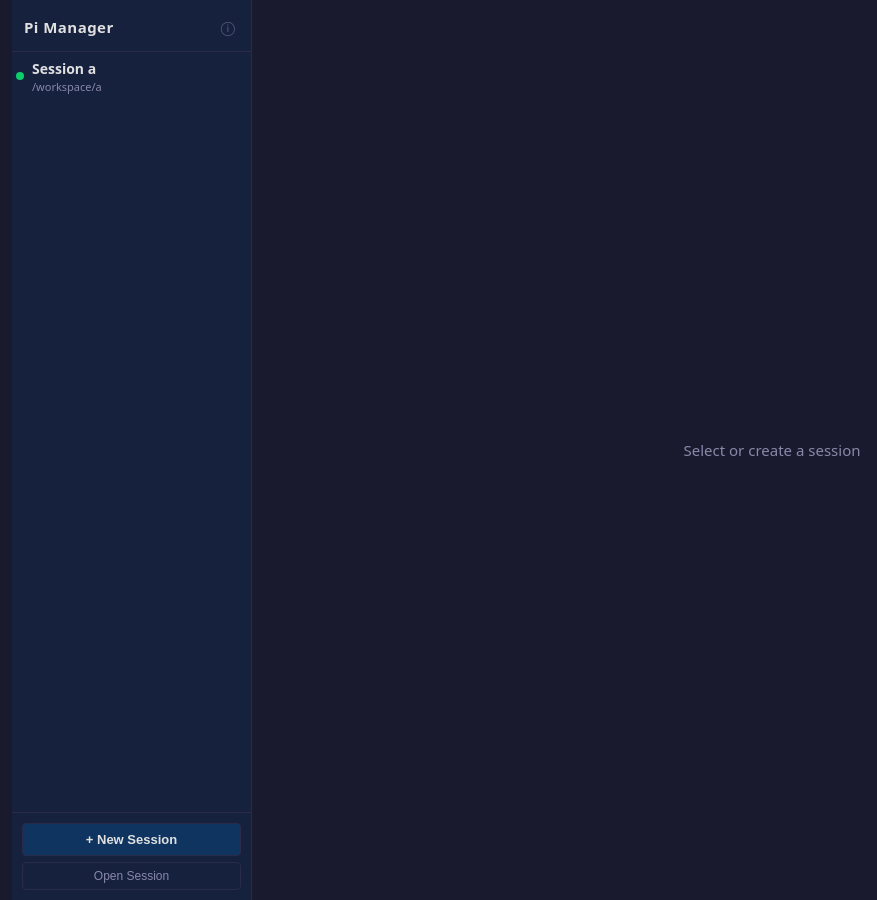
App › shows context menu on right-click
The width and height of the screenshot is (877, 900).
expect the text "Session a" is shown: met, box left=32, top=58, right=96, bottom=78
# Right-click on session item
Right-click the button "Session a /workspace/a" at (136, 76), box left=16, top=58, right=255, bottom=95
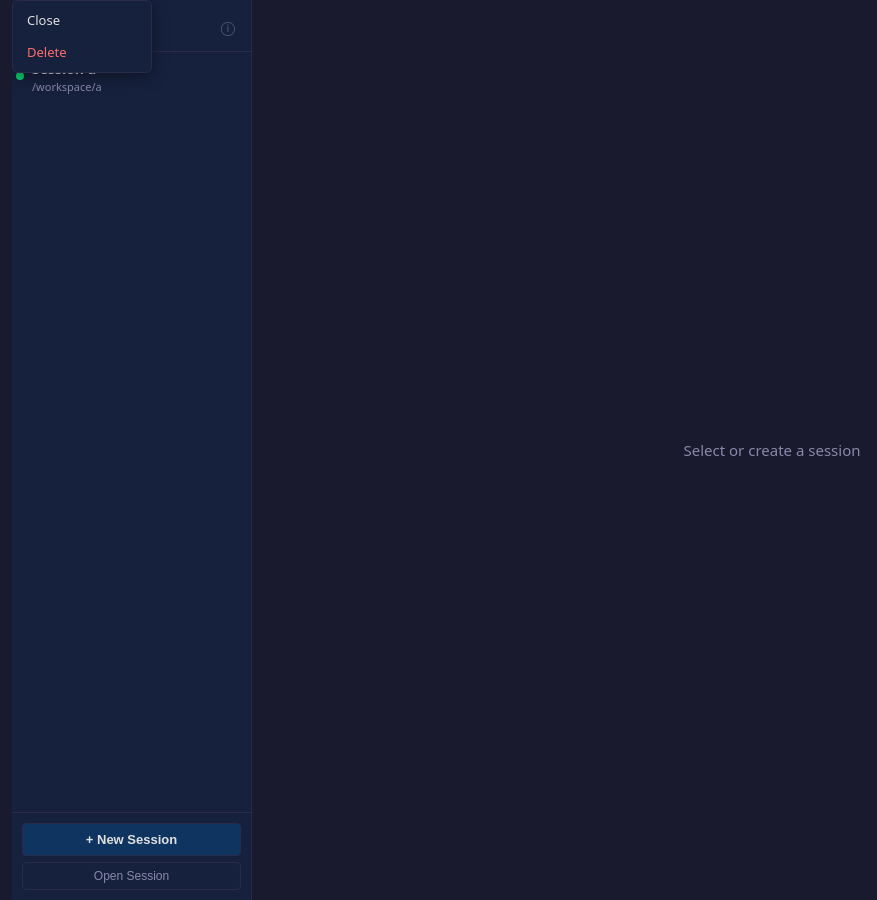
expect the button "Close" is shown: met, box left=13, top=5, right=151, bottom=36
expect the button "Delete" is shown: met, box left=13, top=36, right=151, bottom=68
